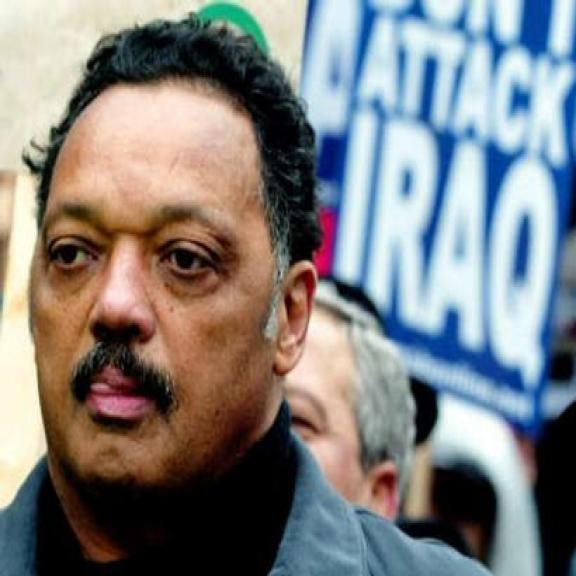face: (22, 75, 309, 489)
